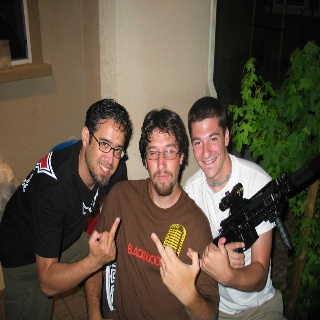rifle: (211, 151, 318, 259)
